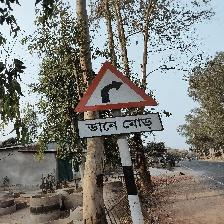Right-turn: (73, 62, 162, 139)
